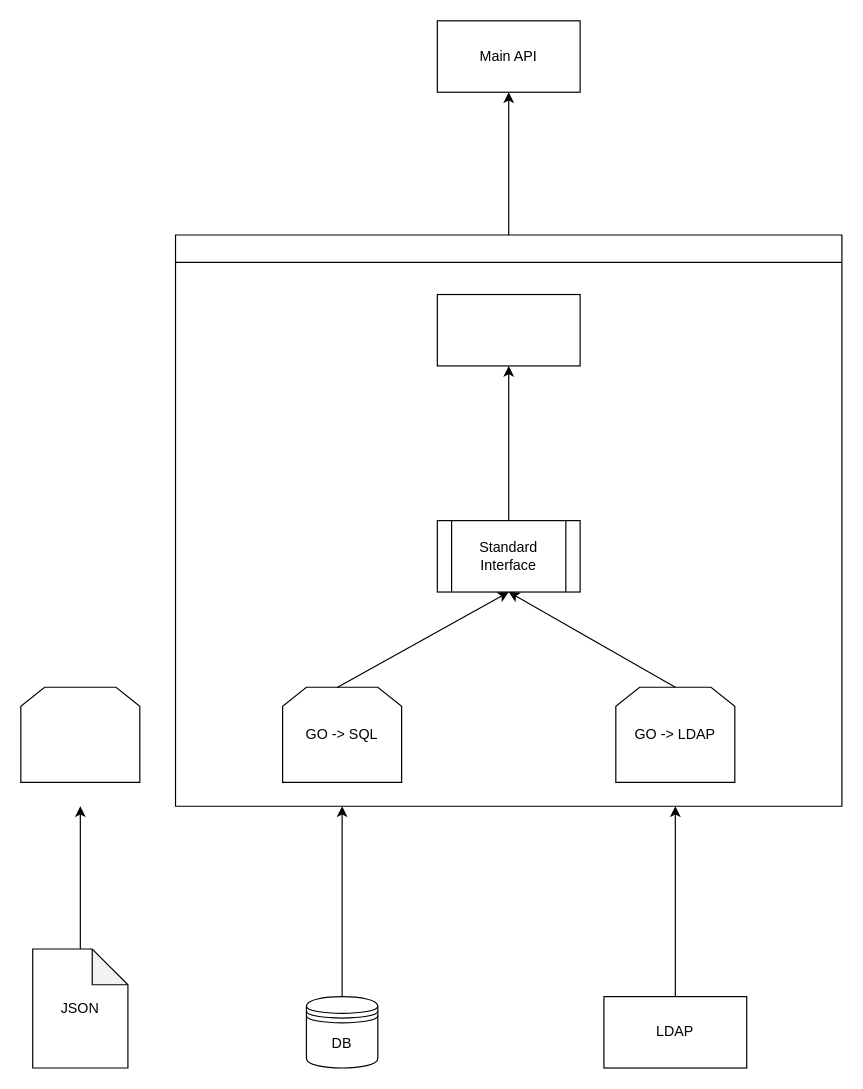
Some shapes in this 863 by 1089 pixel diagram are drawn without their labels. Each missing label, with the box of its shape:
GO -> JSON: (20, 686, 140, 782)
GO REST HTTP SERVER: (436, 293, 580, 366)
User Store API: (174, 234, 842, 806)
